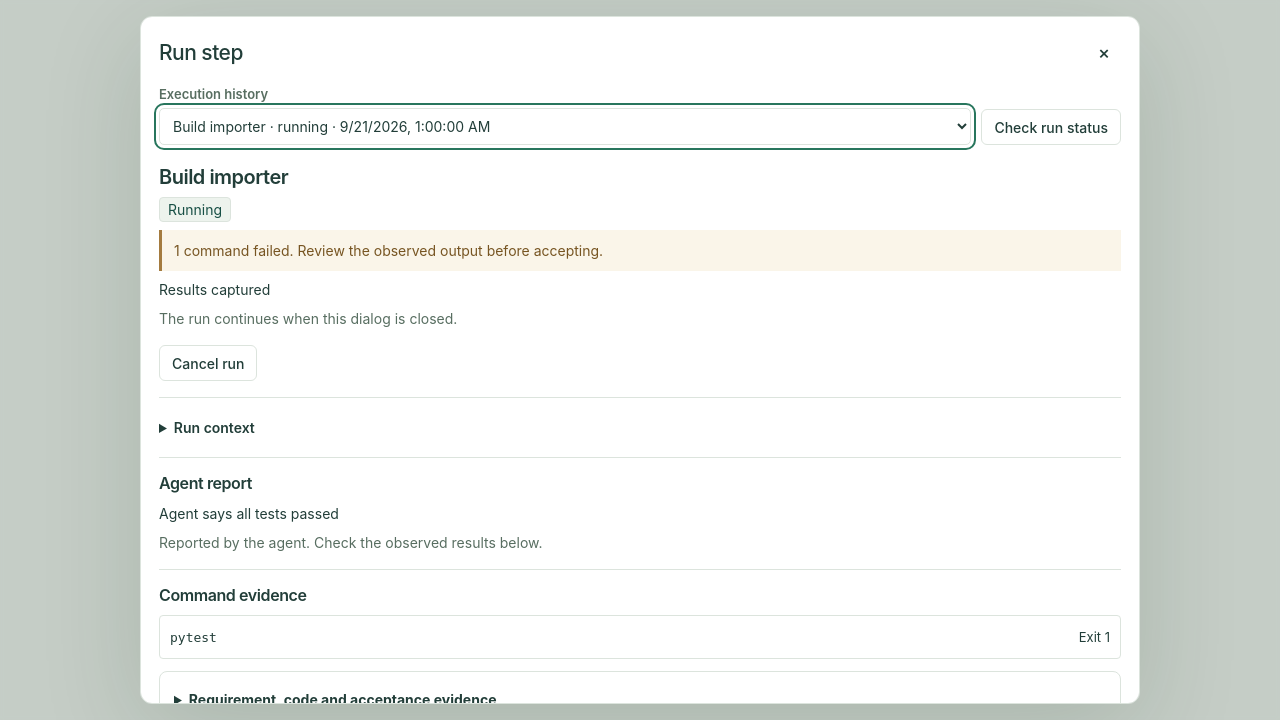
Test: execution review and explicit actions › requires explicit cancel and blocks accepting stale results
expect the element named "Observed commands" is shown: met, box [159, 569, 1121, 659]
Click the button "Cancel run".
click(208, 363)  # box [159, 345, 258, 381]
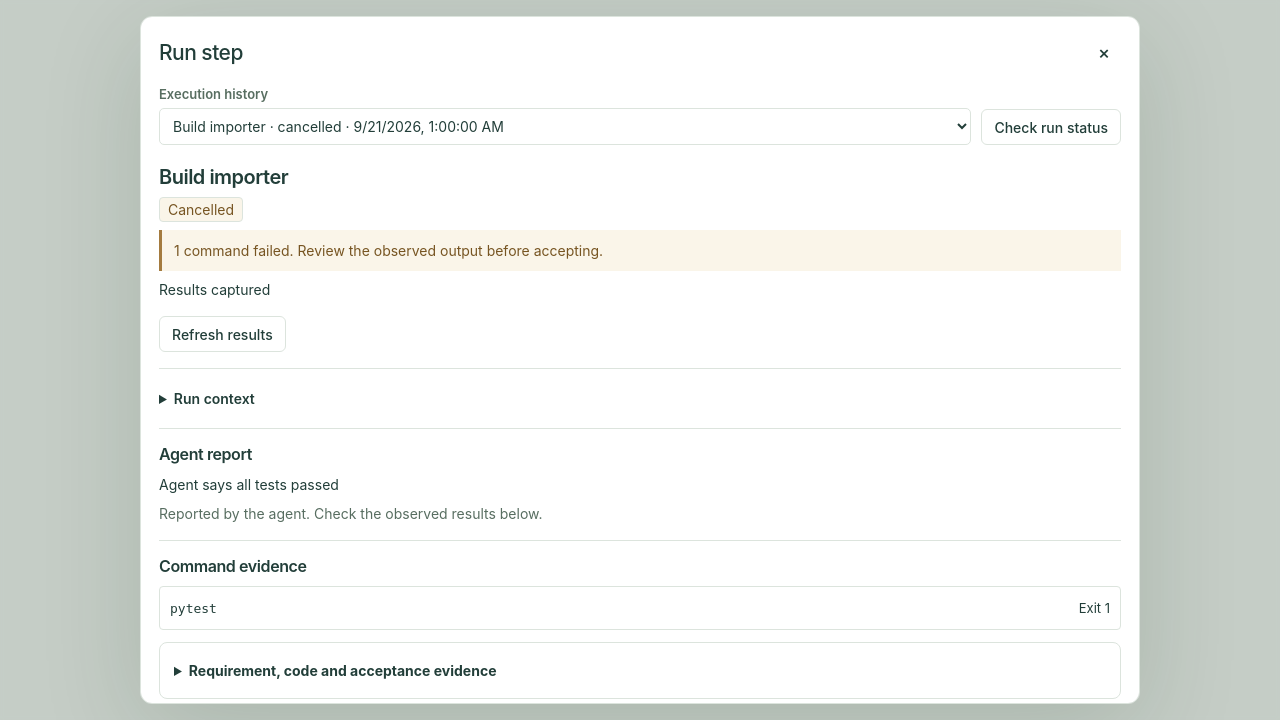
expect the text "cancelled" is shown: met, box [159, 197, 243, 222]
Click the button "Check run status".
click(1051, 127)  # box [981, 109, 1121, 145]
(page scrolled)
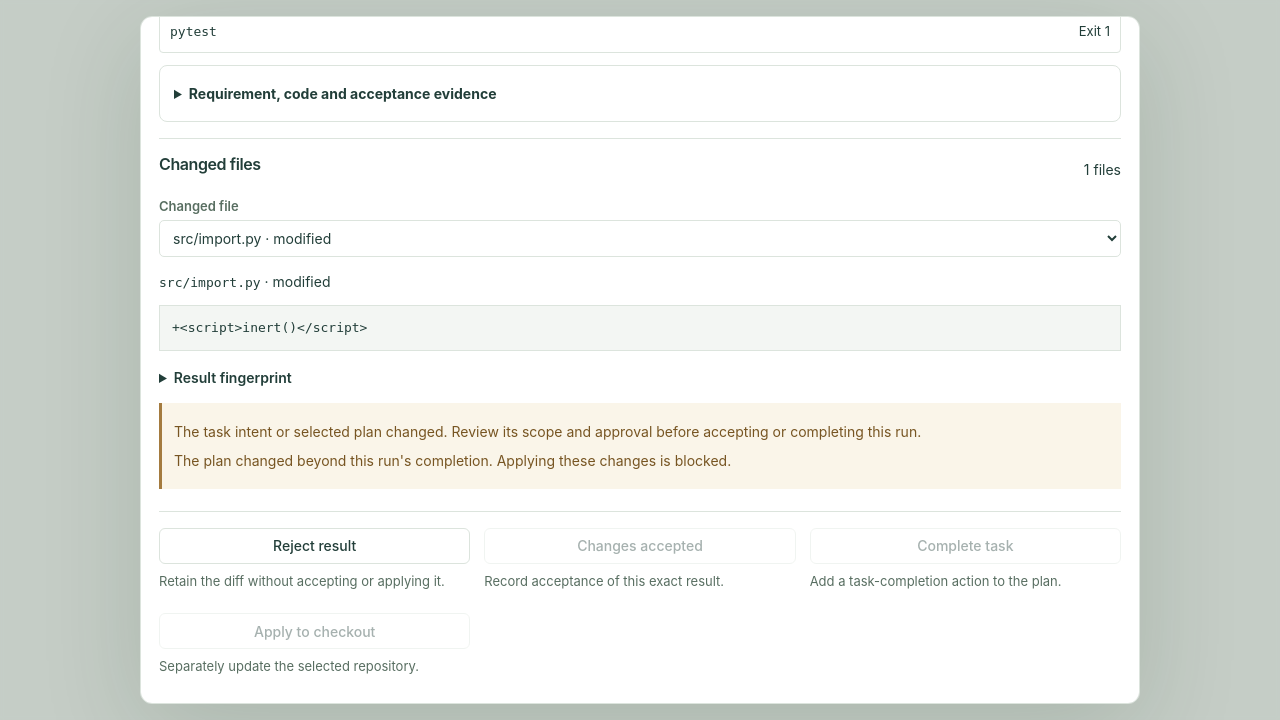
expect the text "task intent or selected plan changed" is shown: met, box [174, 423, 921, 440]
expect the button "Complete task" is disabled: met, box [810, 528, 1121, 564]
expect the button "Apply to checkout" is disabled: met, box [159, 614, 470, 650]
